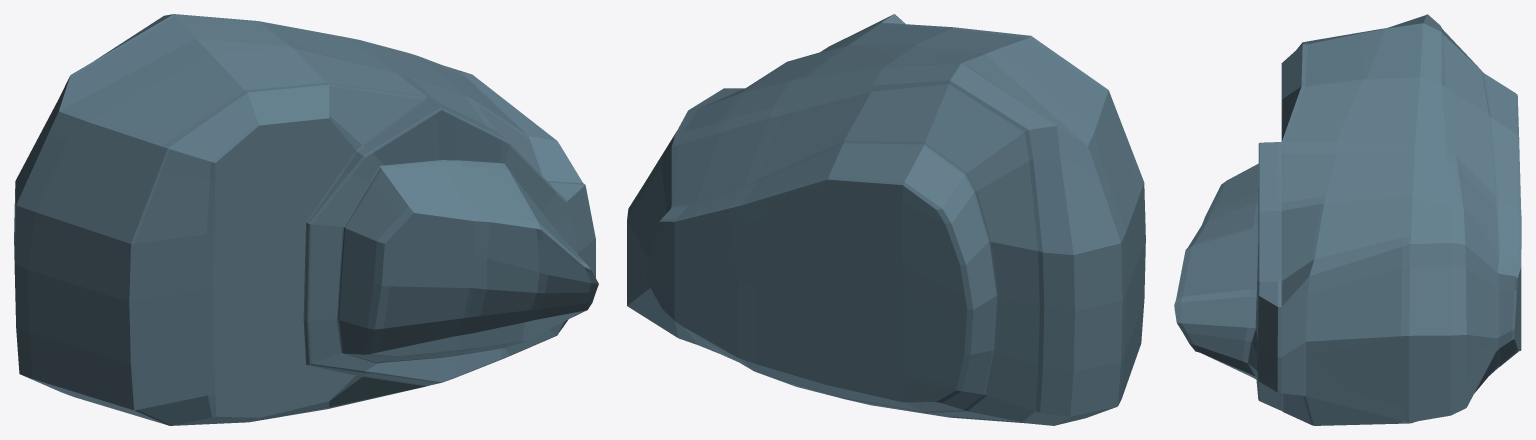
File: ROCKS_ROUND_A_UI.fbx
The picture shows the model from 3 angles, left to right: view 1: azimuth 30°, elevation 25°; view 2: azimuth 150°, elevation 25°; view 3: azimuth 270°, elevation 25°; orthographic projection. The views are drawn at different scales.
Visible parts, largest first — view 1: ROCKSROUNDA_UI; view 2: ROCKSROUNDA_UI; view 3: ROCKSROUNDA_UI.
Boxes of the visible parts, x1,y1,x2,y2 form: ROCKSROUNDA_UI: (14,14,598,425); ROCKSROUNDA_UI: (627,14,1145,425); ROCKSROUNDA_UI: (1174,14,1521,425).
Size of the model in its own units: 6.65 by 4.85 by 4.84.
